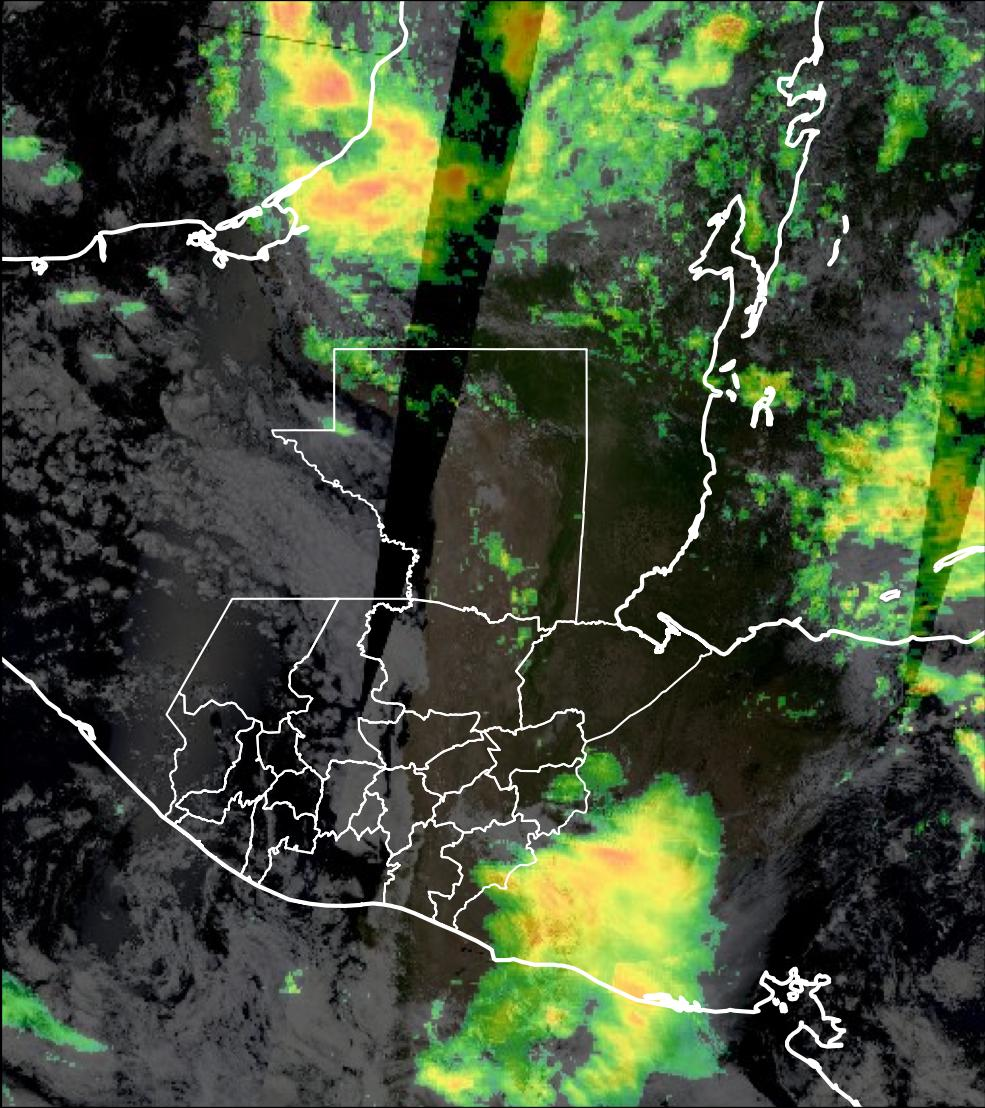precipitacion: (312, 172, 430, 247), (566, 833, 667, 894), (273, 52, 359, 123)
